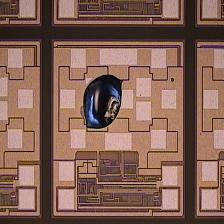PO CONTAMINATION: (83, 74, 126, 132)
